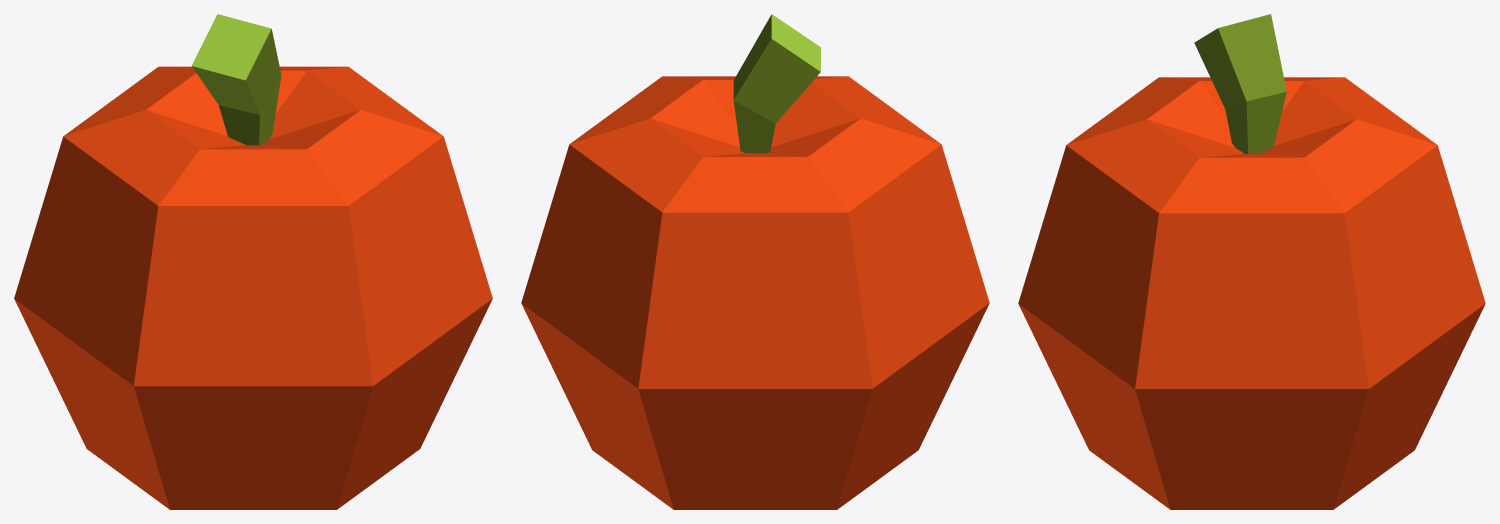
Rendered from TB_Prop_Pumpkin.FBX.
The picture shows the model from 3 angles, left to right: view 1: azimuth 30°, elevation 25°; view 2: azimuth 150°, elevation 25°; view 3: azimuth 270°, elevation 25°; orthographic projection. The views are drawn at different scales.
Parts seen in each view (by area): view 1: TB_Prop_Pumpkin; view 2: TB_Prop_Pumpkin; view 3: TB_Prop_Pumpkin.
Part boxes in pixels (<box>): TB_Prop_Pumpkin: <box>14,14,492,509</box>; TB_Prop_Pumpkin: <box>521,14,989,509</box>; TB_Prop_Pumpkin: <box>1018,14,1485,509</box>.
Size of the model in its own units: 0.4773 by 0.5691 by 0.5511.
